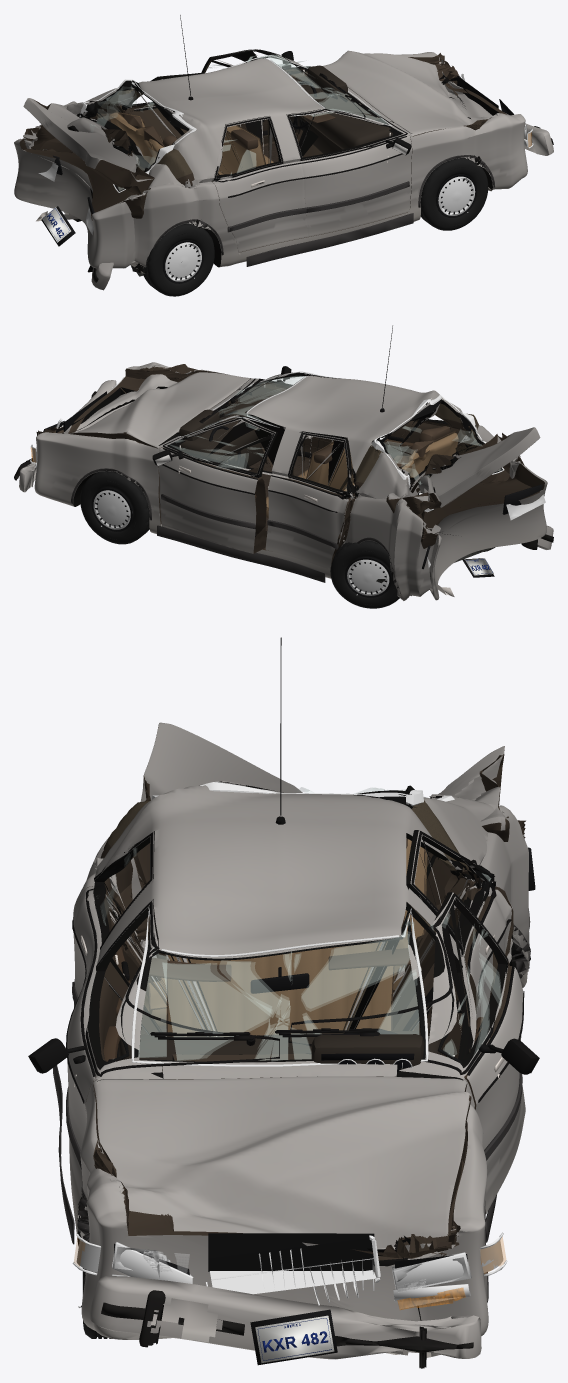
File: sedan87_rear_d2_lod1.glb
3 views of the same model, one above another, from view 1: azimuth 30°, elevation 25°; view 2: azimuth 150°, elevation 25°; view 3: azimuth 270°, elevation 25° (orthographic). The views are drawn at different scales.
Parts seen in each view (by area): view 1: Body, Door_FR, Hood, Interior, Door_RR, Trunk, Glass, Wheel_FR_mesh, Wheel_RR_mesh, Trim, Trim_FR, Ends (+5 smaller); view 2: Body, Door_FL, Hood, Door_RL, Interior, Trunk, Wheel_FL_mesh, Glass, Wheel_RL_mesh, Trim, Trim_FL, Ends (+7 smaller); view 3: Body, Hood, Interior, Glass, Ends, Bumper_F, Door_FL, Trunk, Door_FR, Door_RL, Trim_FR, Trim_FL (+5 smaller).
Boxes of the visible parts, x1,y1,x2,y2 form: Body: (14, 52, 527, 273); Door_FR: (286, 109, 411, 236); Hood: (323, 50, 492, 136); Interior: (109, 65, 393, 175); Door_RR: (212, 116, 307, 252); Trunk: (23, 98, 154, 195); Glass: (79, 55, 391, 192); Wheel_FR_mesh: (420, 158, 488, 230); Wheel_RR_mesh: (141, 223, 214, 296); Trim: (145, 15, 494, 266); Trim_FR: (287, 95, 411, 212); Ends: (33, 73, 533, 246); Body: (34, 362, 547, 600); Door_FL: (158, 418, 277, 553); Hood: (68, 372, 250, 448); Door_RL: (265, 432, 356, 569); Interior: (179, 386, 458, 518); Trunk: (386, 427, 540, 514); Wheel_FL_mesh: (80, 471, 149, 544); Glass: (178, 371, 504, 512); Wheel_RL_mesh: (330, 540, 399, 608); Trim: (71, 325, 401, 594); Trim_FL: (152, 410, 274, 536); Ends: (30, 376, 545, 577); Body: (70, 781, 530, 1357); Hood: (93, 1076, 471, 1266); Interior: (118, 838, 441, 1072); Glass: (131, 781, 454, 1066); Ends: (72, 847, 535, 1365); Bumper_F: (89, 1276, 481, 1368); Door_FL: (398, 892, 525, 1213); Trunk: (140, 722, 509, 841); Door_FR: (67, 899, 162, 1217); Door_RL: (406, 830, 513, 1058); Trim_FR: (28, 901, 279, 1169); Trim_FL: (288, 893, 539, 1160).
Size of the model in its own units: 4.34 by 2.17 by 2.1.
Materials: 32 (5 with a texture image).
